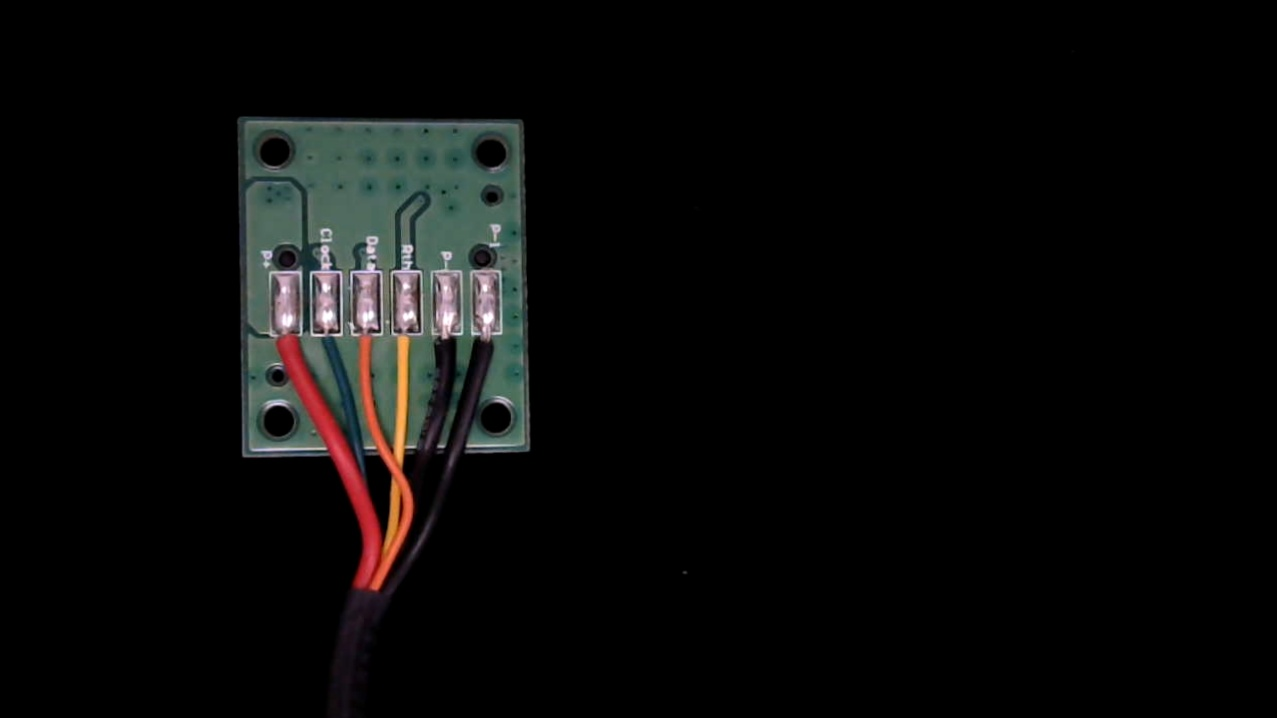Black: (429, 316, 464, 390)
Black1: (472, 314, 506, 382)
Green: (309, 311, 344, 373)
Orange: (350, 313, 383, 386)
Red: (271, 314, 305, 385)
Yellow: (392, 315, 427, 390)
